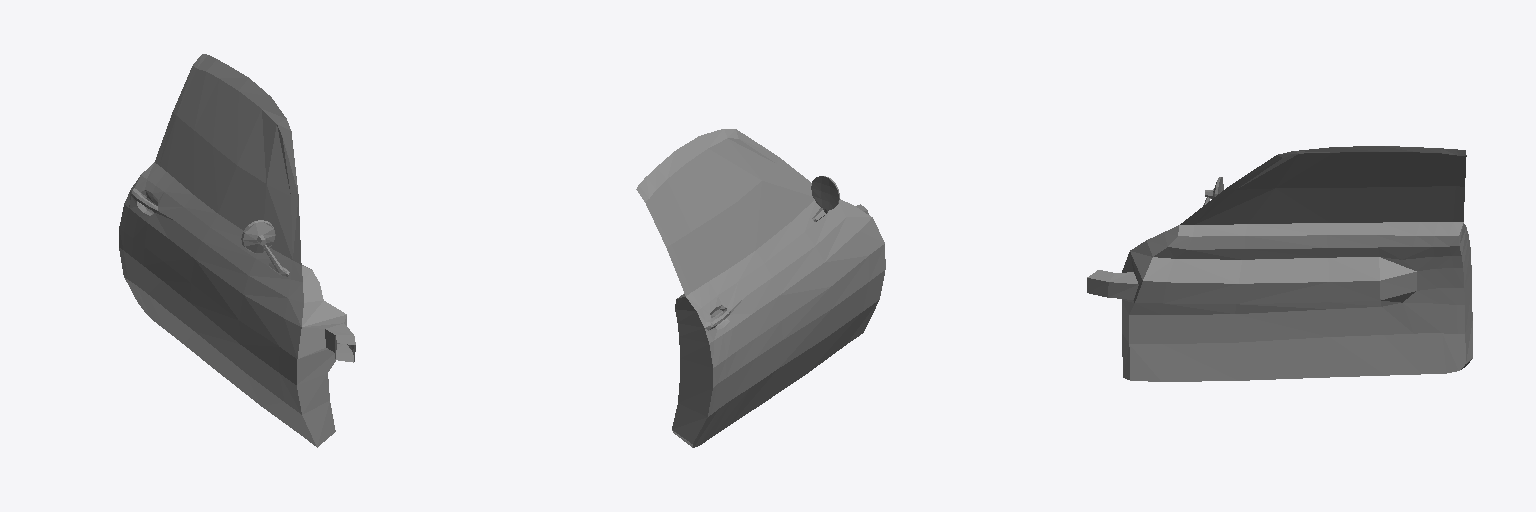
File: puertaIzq.obj
3 renders of one model, left to right at view 1: azimuth 30°, elevation 25°; view 2: azimuth 150°, elevation 25°; view 3: azimuth 270°, elevation 25°, orthographic.
Parts seen in each view (by area): view 1: passengerDoor; view 2: passengerDoor; view 3: passengerDoor.
Boxes of the visible parts, x1=… form: passengerDoor: x1=119, y1=54, x2=355, y2=447; passengerDoor: x1=636, y1=129, x2=885, y2=447; passengerDoor: x1=1087, y1=146, x2=1472, y2=381.
Size of the model in its own units: 0.8269 by 2.41 by 3.22.